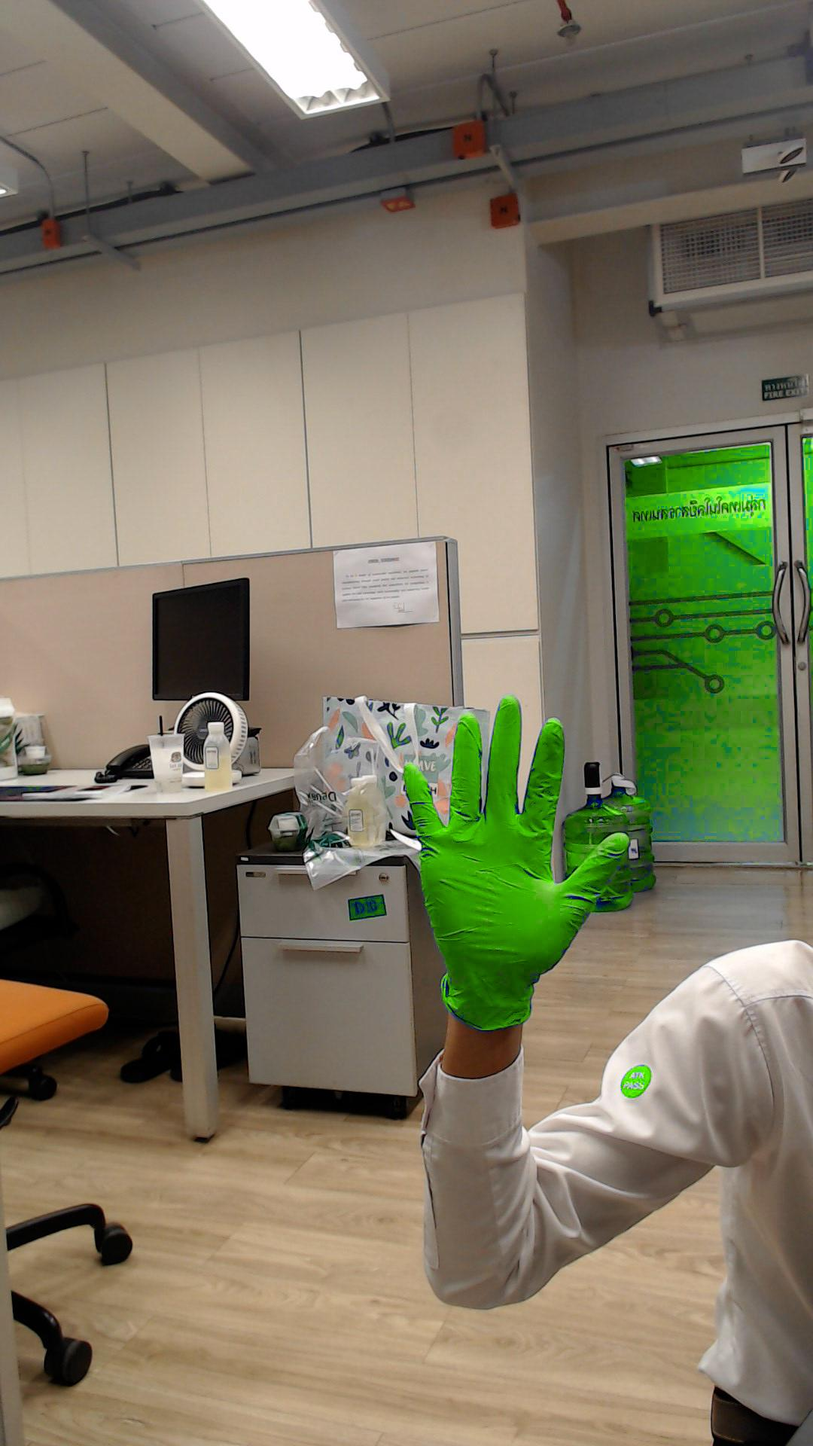gloves: (382, 682, 640, 972)
